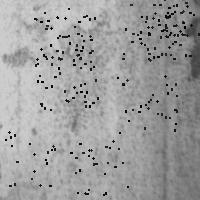pitted_surface: (22, 6, 181, 194), (37, 49, 97, 109), (122, 0, 182, 58), (117, 75, 176, 132), (139, 2, 198, 59), (34, 8, 94, 64), (70, 140, 127, 194), (0, 131, 54, 185), (2, 44, 35, 69)
